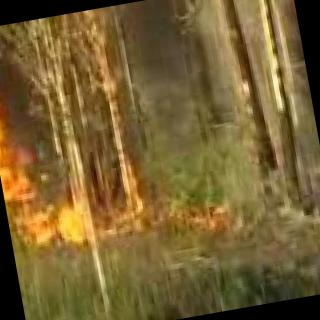fire: (0, 156, 112, 265), (0, 28, 12, 166)
